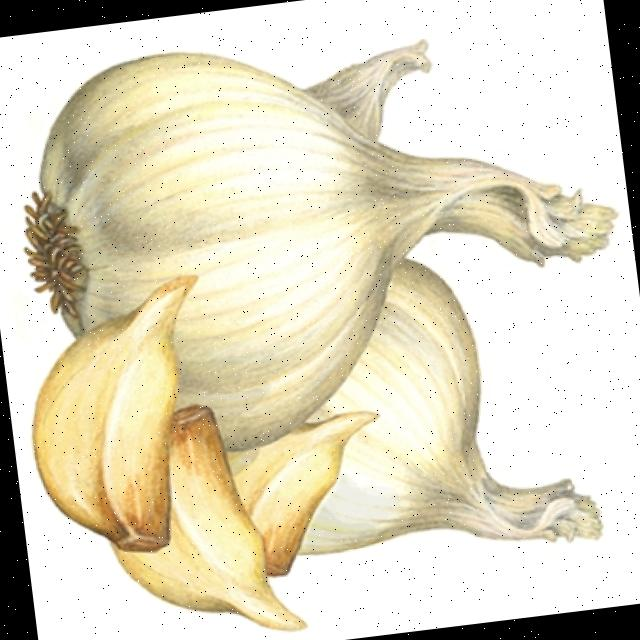garlic: (28, 38, 615, 447), (302, 258, 602, 551), (35, 274, 196, 548), (117, 404, 306, 627), (236, 409, 379, 573)
